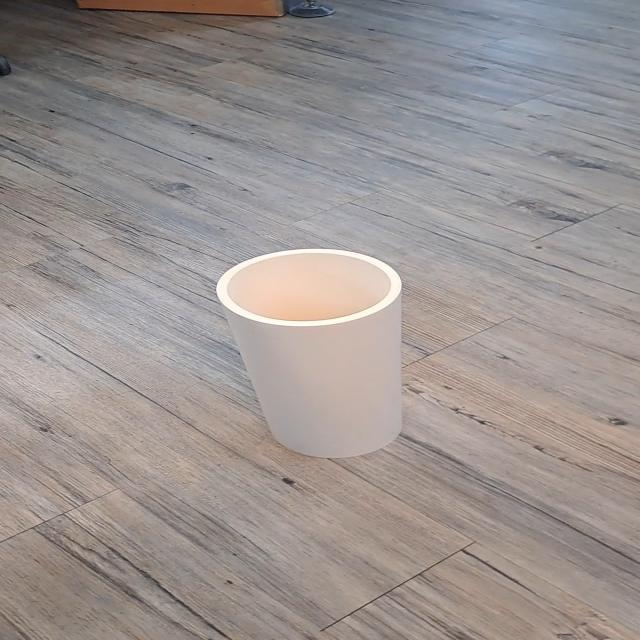CORAL: (178, 222, 506, 477)
